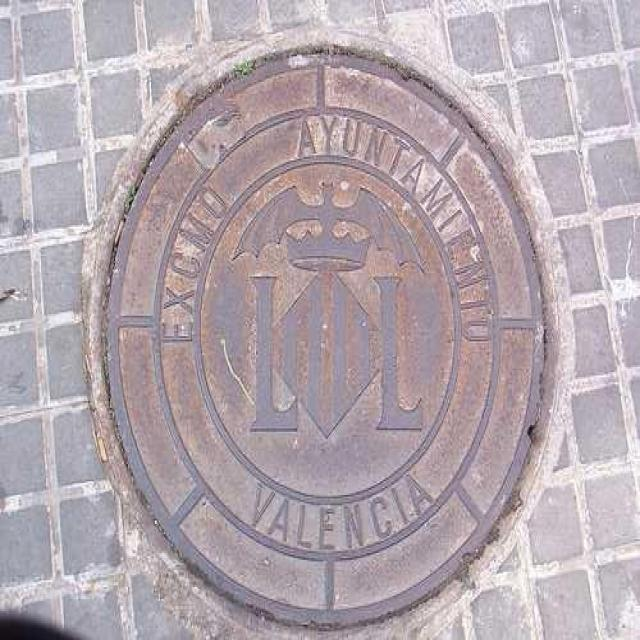manhole: (84, 44, 559, 635)
